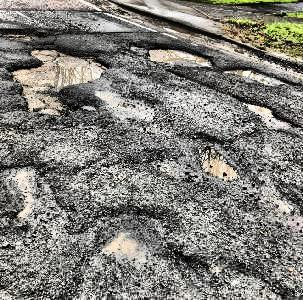pothole: (75, 211, 185, 300), (6, 43, 113, 116), (2, 157, 44, 220), (241, 102, 303, 136), (146, 44, 213, 68), (197, 145, 239, 182), (223, 64, 286, 86), (0, 24, 48, 39)
